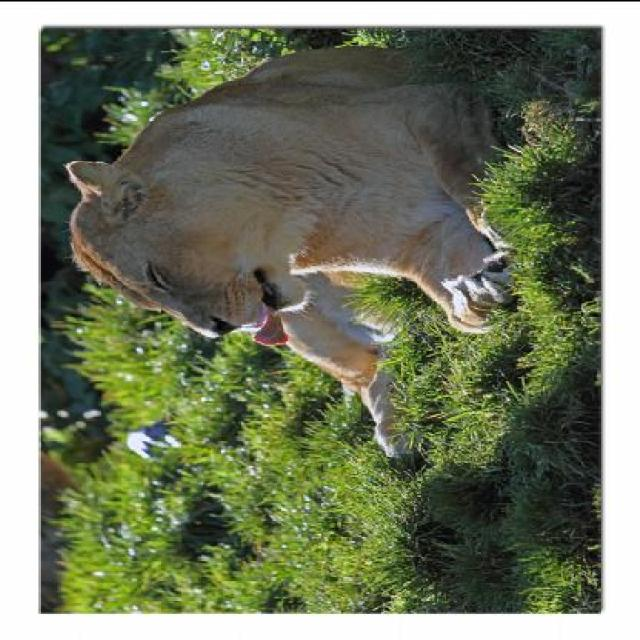Lion: (51, 42, 562, 466)
